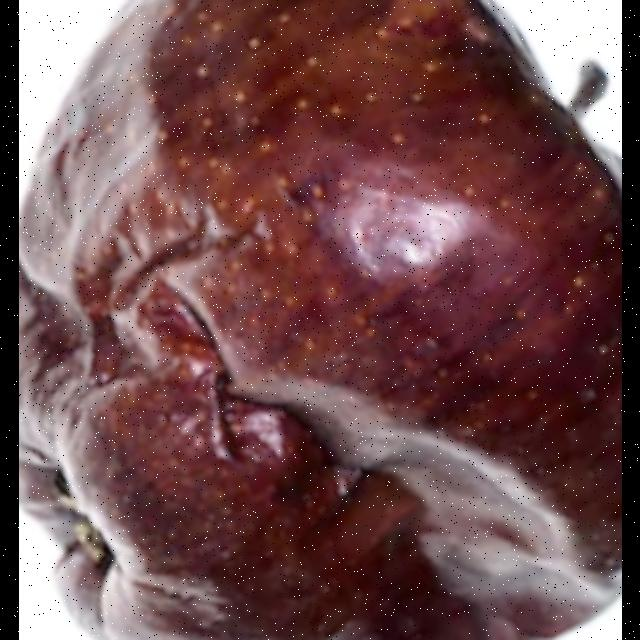Apel Tidak Segar: (18, 0, 622, 640)
